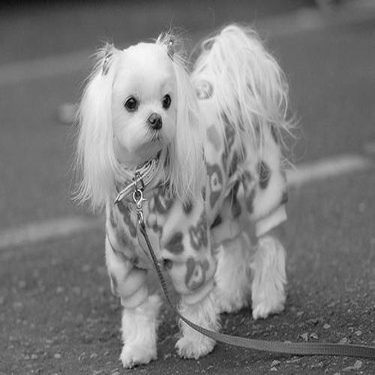dog: (60, 16, 300, 370)
